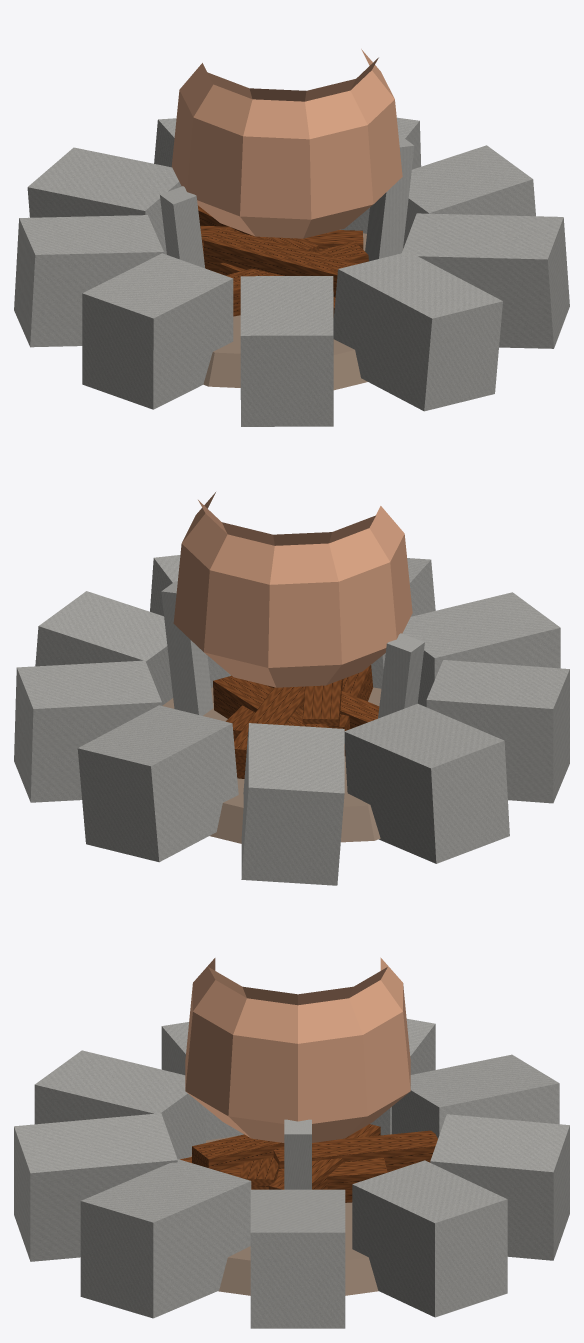
File: andean-terraces-and-stone-village-stone-hearth-3bc02efa__38272.glb
3 views of the same model, one above another, from view 1: azimuth 30°, elevation 25°; view 2: azimuth 150°, elevation 25°; view 3: azimuth 270°, elevation 25° (orthographic). The views are drawn at different scales.
Visible parts, largest first — view 1: stone-hearth-stone, stone-hearth-clay, stone-hearth-timber, stone-hearth-earth; view 2: stone-hearth-stone, stone-hearth-clay, stone-hearth-timber, stone-hearth-earth; view 3: stone-hearth-stone, stone-hearth-clay, stone-hearth-timber, stone-hearth-earth.
Boxes of the visible parts, x1=… form: stone-hearth-stone: x1=14, y1=117, x2=569, y2=426; stone-hearth-clay: x1=171, y1=49, x2=402, y2=238; stone-hearth-timber: x1=197, y1=205, x2=368, y2=317; stone-hearth-earth: x1=203, y1=229, x2=367, y2=390; stone-hearth-stone: x1=14, y1=555, x2=569, y2=885; stone-hearth-clay: x1=173, y1=492, x2=412, y2=687; stone-hearth-timber: x1=213, y1=665, x2=379, y2=778; stone-hearth-earth: x1=162, y1=687, x2=381, y2=843; stone-hearth-stone: x1=14, y1=1019, x2=569, y2=1328; stone-hearth-clay: x1=185, y1=957, x2=410, y2=1142; stone-hearth-timber: x1=180, y1=1124, x2=437, y2=1202; stone-hearth-earth: x1=189, y1=1136, x2=378, y2=1295.
Bounding box in the file's own units: 1.38 × 0.7559 × 1.41.
4 materials, 2 textured.
